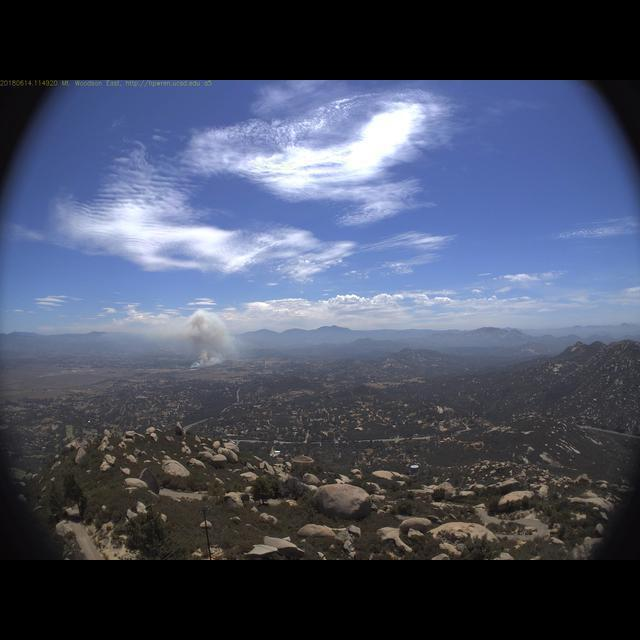Smoke: (184, 307, 240, 372)
